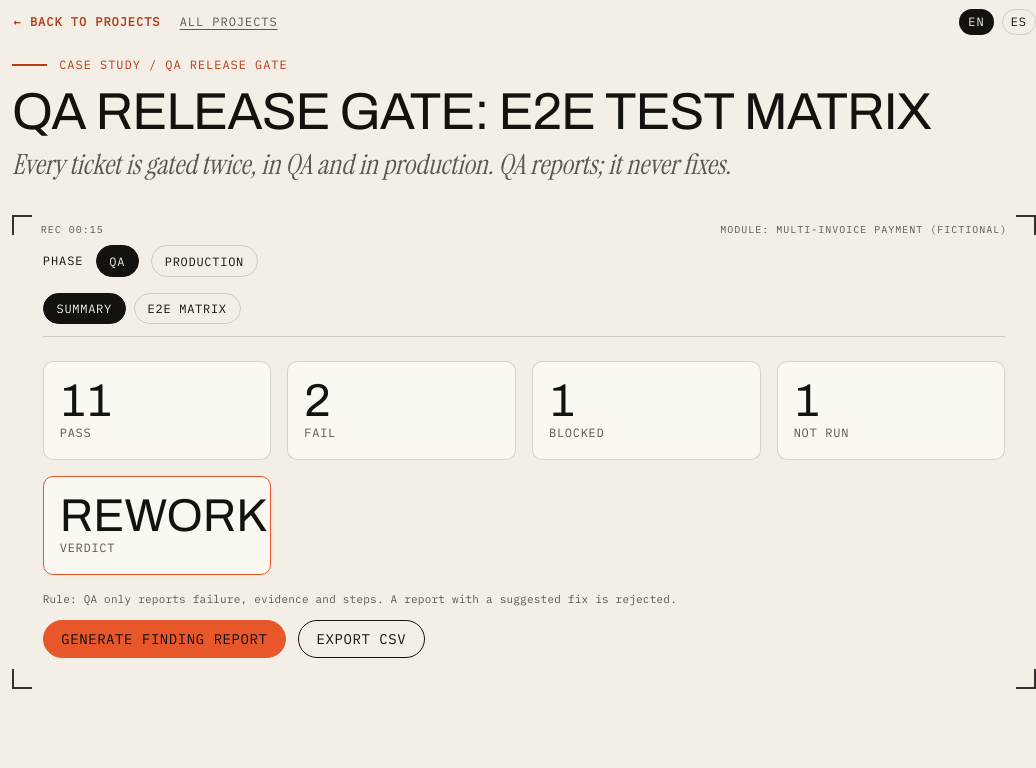
Test: la interfaz muestra el veredicto y cambia a produccion
expect the text with test id "verdict" reads "REWORK": met, box [60,491,267,541]
expect the text with test id "count-pass" reads "11": met, box [60,376,112,426]
Click the button "Generate finding report". click: (164, 639)
box: [43,620,286,658]
(page scrolled)
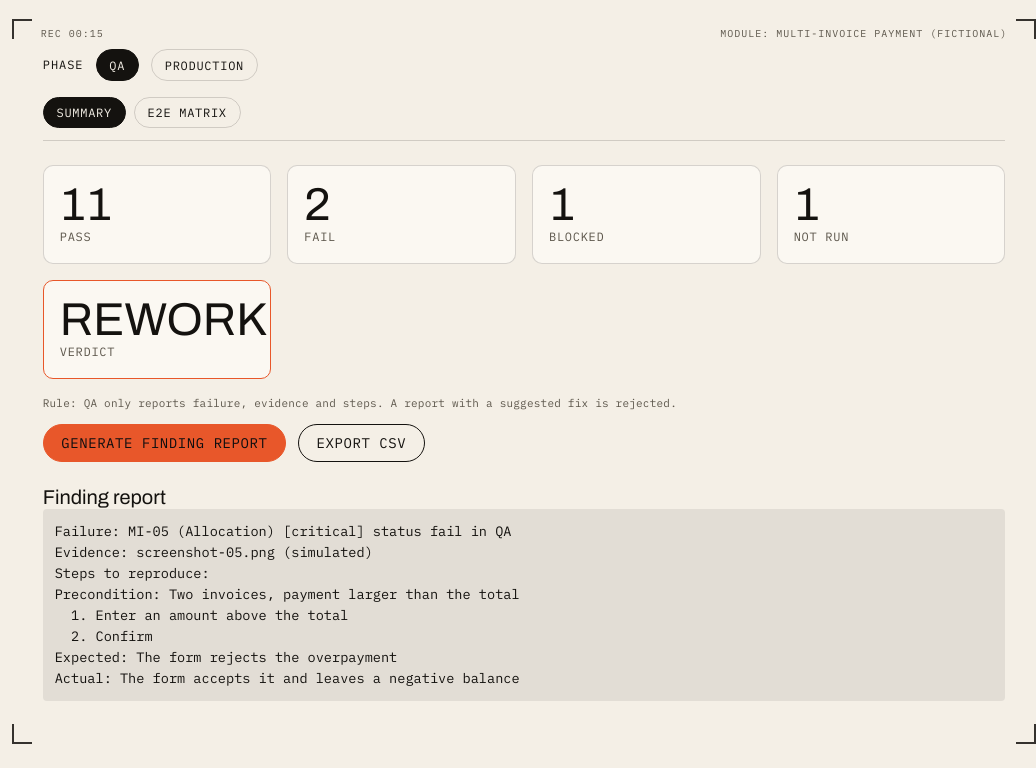
expect the text with test id "report" shows "Steps to reproduce": met, box [55,522,520,687]
